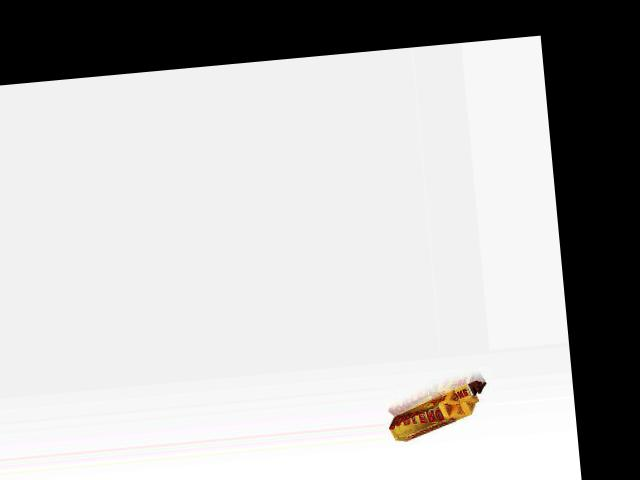chocolate: (386, 375, 491, 444)
